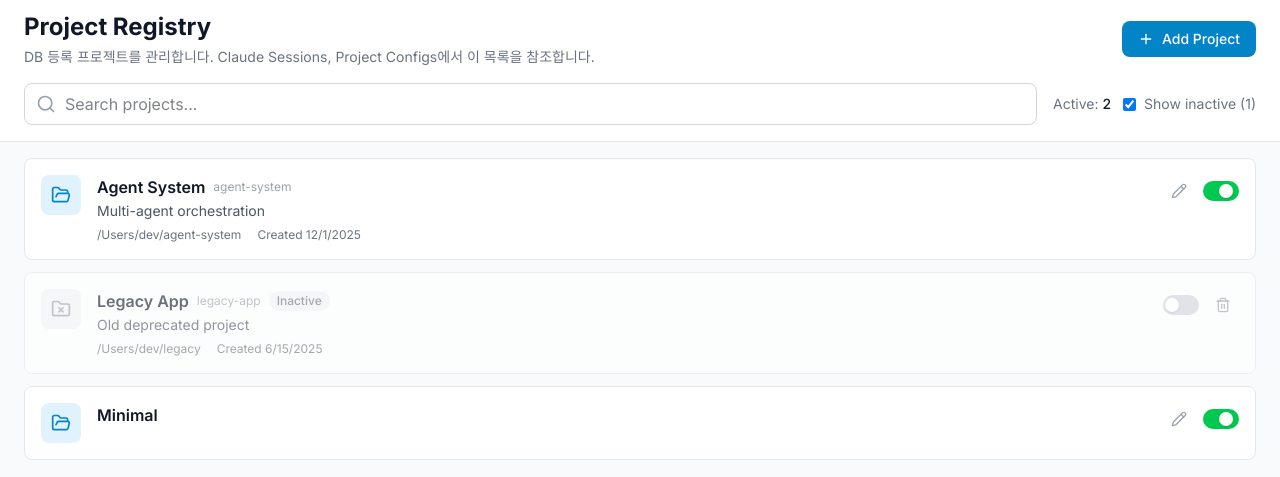
ProjectManagementPage › search filtering › shows no matching projects message when search finds nothing
Type "zzzznonexistent" into the field with placeholder "Search projects...". click: x=531, y=104
box: [24,83,1037,125]
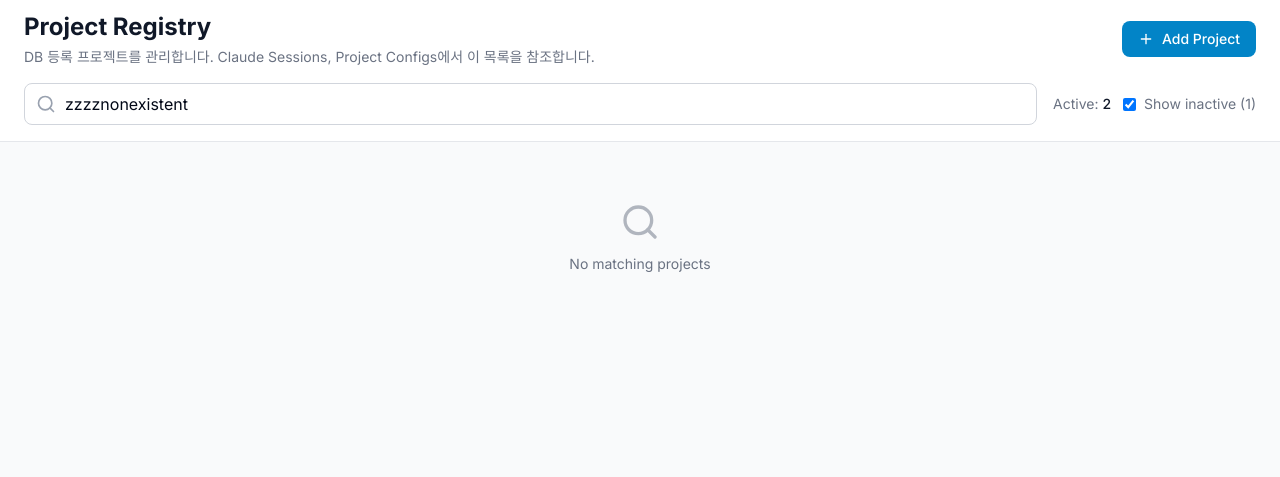
expect the text "No matching projects" is shown: met, box [569,254,711,274]
